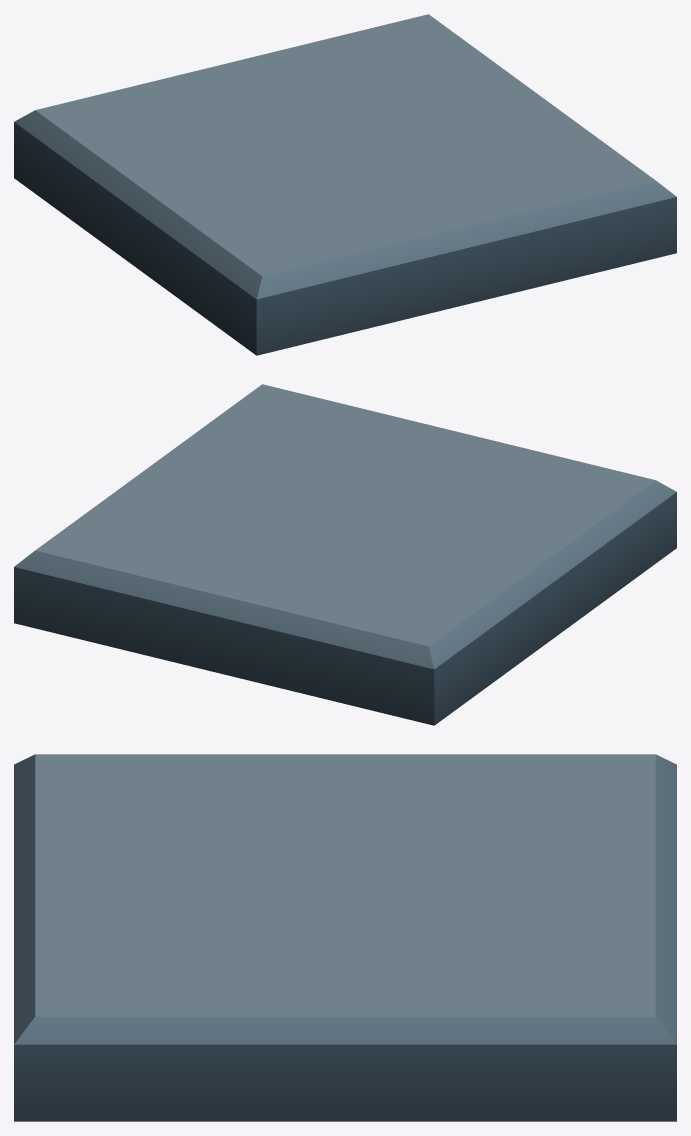
File: ice-platform.glb
3 views of the same model, one above another, from view 1: azimuth 30°, elevation 25°; view 2: azimuth 150°, elevation 25°; view 3: azimuth 270°, elevation 25° (orthographic). The views are drawn at different scales.
Visible parts, largest first — view 1: ice-platform; view 2: ice-platform; view 3: ice-platform.
Part boxes in pixels (<box>): ice-platform: <box>14,14,676,355</box>; ice-platform: <box>14,384,676,725</box>; ice-platform: <box>14,754,676,1121</box>.
Size of the model in its own units: 0.25 by 0.04 by 0.25.
